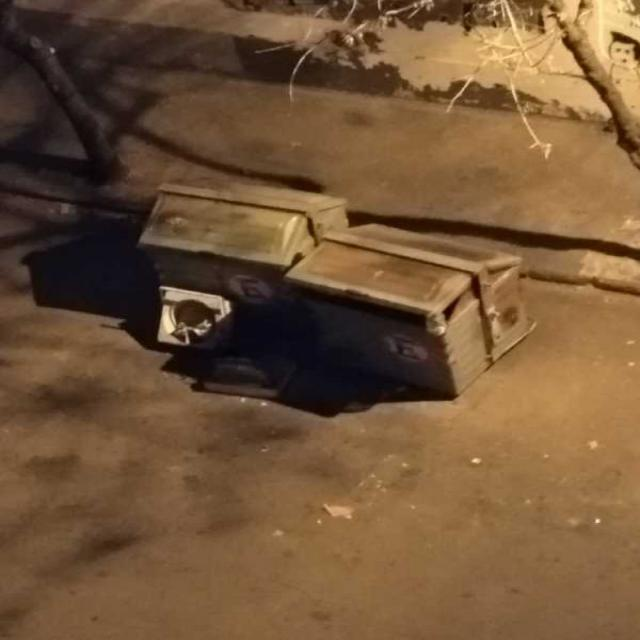garbage: (132, 283, 278, 383)
